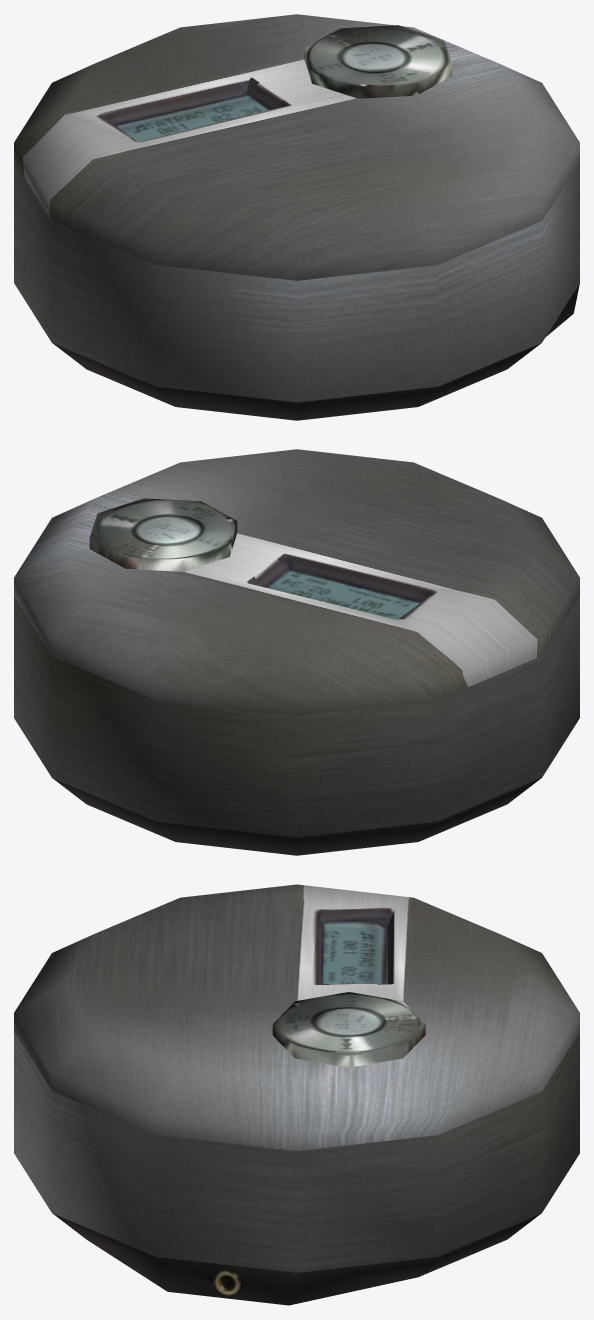
File: puck-spcl-cdplayer.glb
3 views of the same model, one above another, from view 1: azimuth 30°, elevation 25°; view 2: azimuth 150°, elevation 25°; view 3: azimuth 270°, elevation 25° (orthographic).
Visible parts, largest first — view 1: CD_Player; view 2: CD_Player; view 3: CD_Player.
Part boxes in pixels (box(x1,y1,x2,y2)): CD_Player: box(14, 14, 579, 420); CD_Player: box(14, 449, 579, 855); CD_Player: box(14, 884, 579, 1305).
Size of the model in its own units: 1 by 0.4221 by 1.
Materials: 1 (1 with a texture image).
